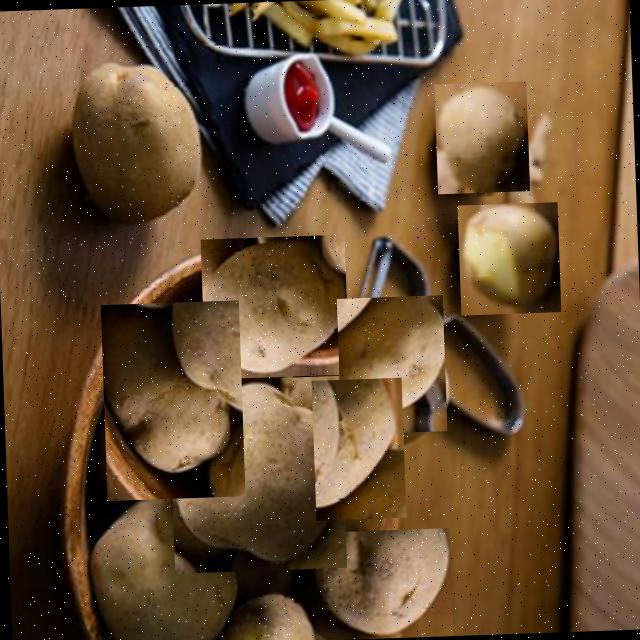Potato: (167, 376, 346, 574), (99, 300, 244, 500), (81, 485, 245, 640), (65, 57, 204, 230), (199, 234, 348, 379), (310, 527, 452, 640), (335, 294, 446, 434), (310, 378, 405, 520), (456, 202, 560, 315), (432, 81, 528, 194)
